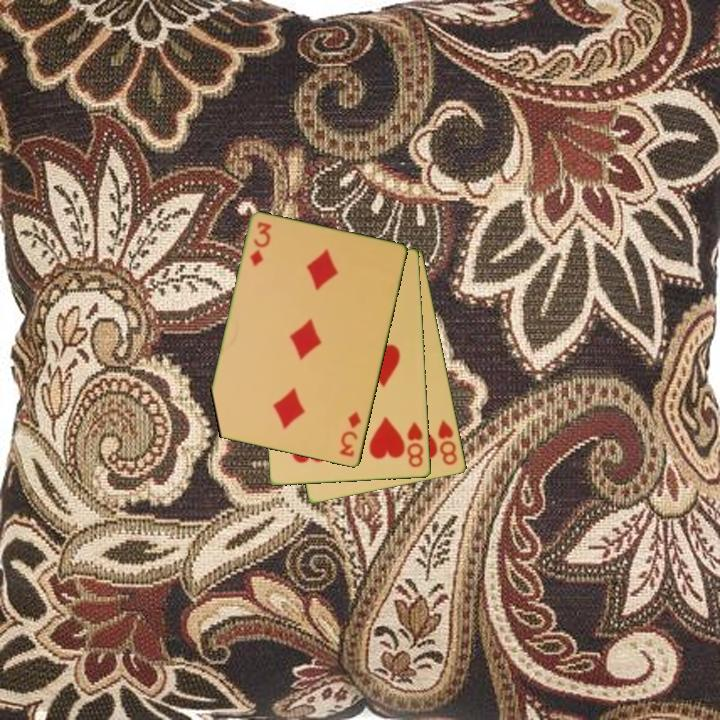3d: (246, 219, 275, 270), (336, 408, 364, 460)
8h: (434, 416, 461, 468), (404, 419, 426, 471)
